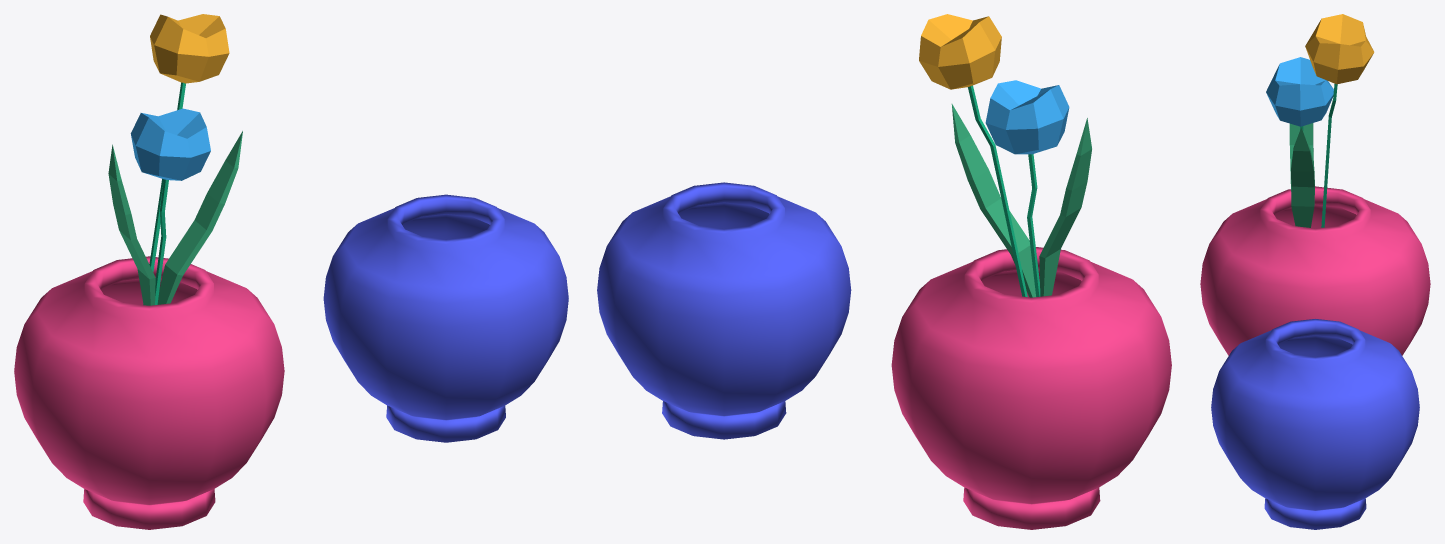
Rendered from small-vase-flower.fbx.
3 renders of one model, left to right at view 1: azimuth 30°, elevation 25°; view 2: azimuth 150°, elevation 25°; view 3: azimuth 270°, elevation 25°, orthographic. The views are drawn at different scales.
Visible parts, largest first — view 1: Sphere.001, Sphere.002, Cube.002, Cube.006, Cube.003, Cube.004, Cube; view 2: Sphere.001, Sphere.002, Cube.006, Cube.002, Cube.003, Cube.004, Cube.005, Cube; view 3: Sphere.002, Sphere.001, Cube.006, Cube.002, Cube.003, Cube.005, Cube.004.
Part boxes in pixels (left/top/right/bottom): Sphere.001: left=14, top=256, right=284, bottom=529; Sphere.002: left=323, top=194, right=568, bottom=442; Cube.002: left=130, top=108, right=210, bottom=180; Cube.006: left=150, top=14, right=229, bottom=83; Cube.003: left=157, top=131, right=242, bottom=304; Cube.004: left=108, top=144, right=155, bottom=305; Cube: left=155, top=179, right=168, bottom=304; Sphere.001: left=891, top=247, right=1171, bottom=529; Sphere.002: left=597, top=182, right=851, bottom=439; Cube.006: left=919, top=14, right=1001, bottom=89; Cube.002: left=985, top=80, right=1069, bottom=154; Cube.003: left=951, top=104, right=1035, bottom=297; Cube.004: left=1039, top=118, right=1091, bottom=296; Cube.005: left=968, top=85, right=1027, bottom=297; Cube: left=1027, top=154, right=1040, bottom=296; Sphere.002: left=1211, top=319, right=1419, bottom=529; Sphere.001: left=1200, top=186, right=1430, bottom=355; Cube.006: left=1305, top=14, right=1374, bottom=84; Cube.002: left=1266, top=57, right=1333, bottom=126; Cube.003: left=1291, top=127, right=1314, bottom=227; Cube.005: left=1321, top=84, right=1337, bottom=227; Cube.004: left=1289, top=123, right=1313, bottom=191.
Size of the model in its own units: 632 by 540 by 284.
